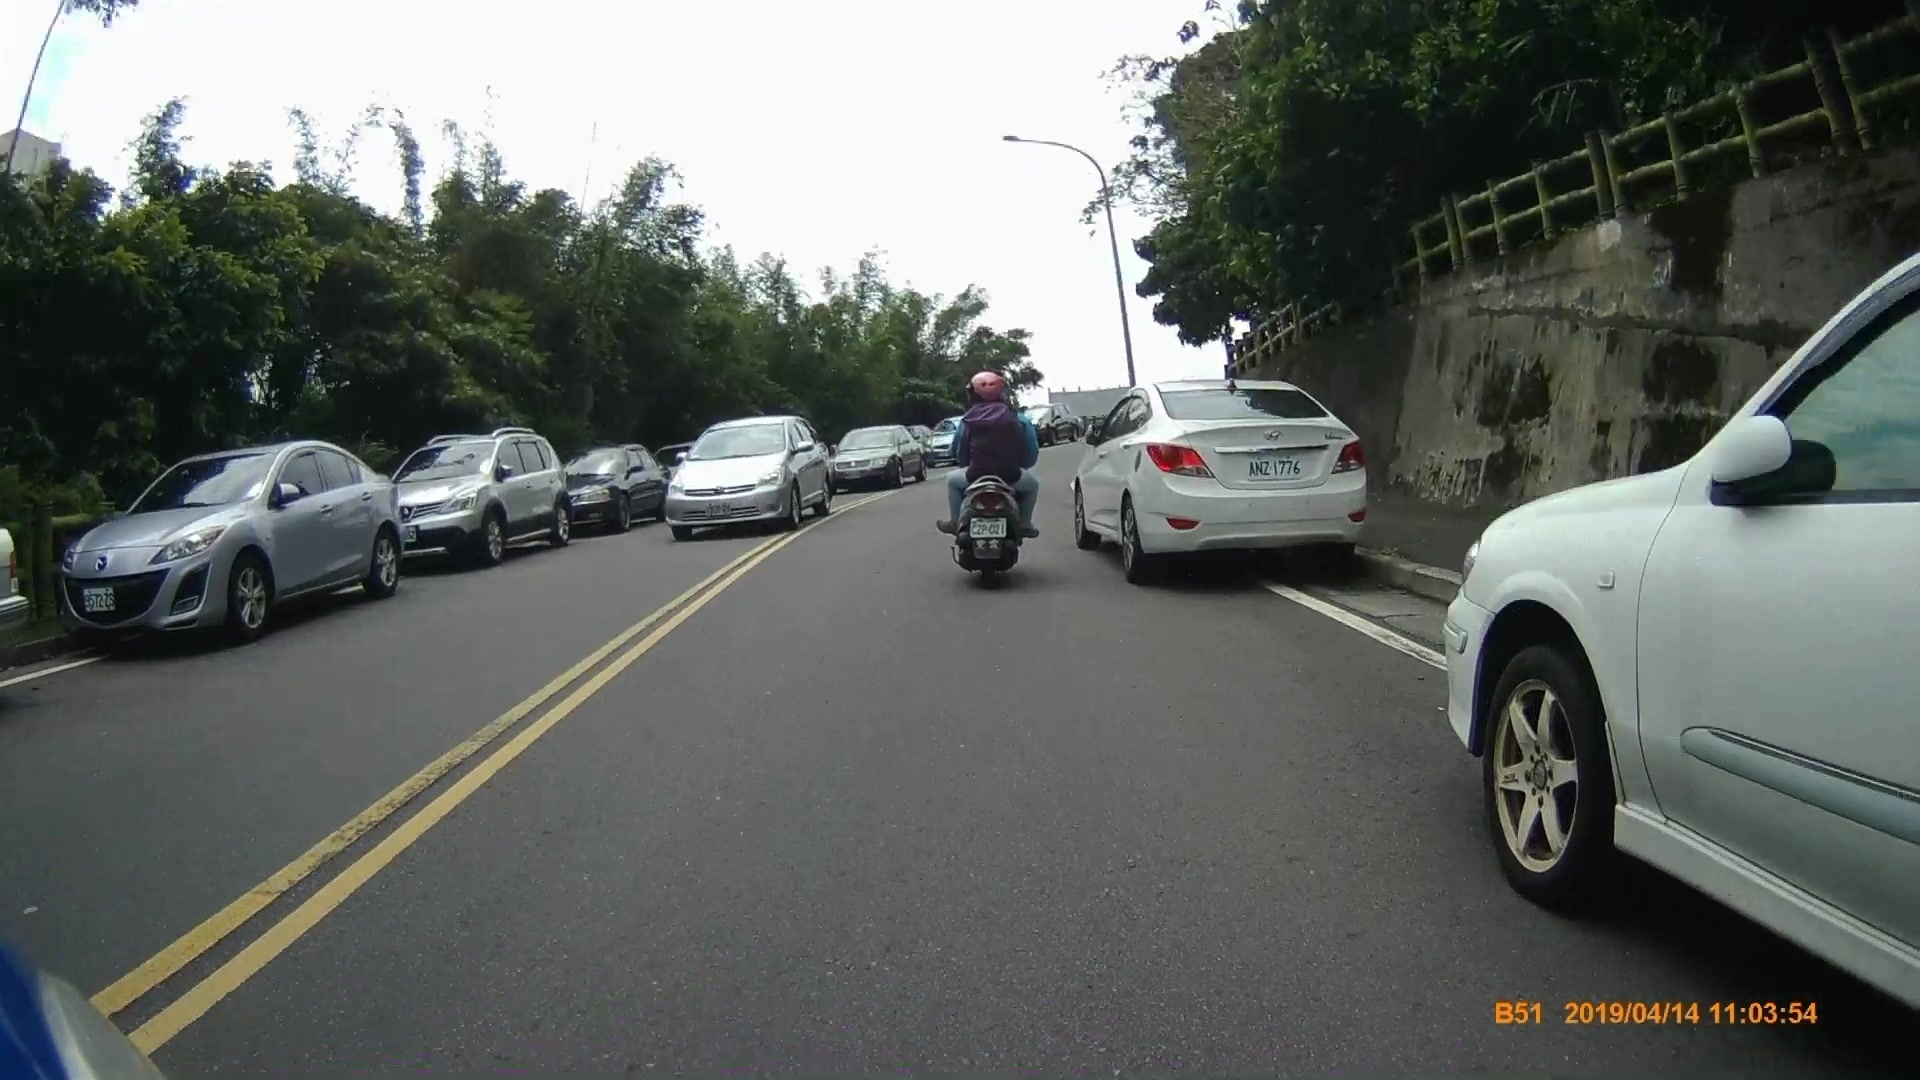License_plate: (1235, 453, 1310, 489), (967, 517, 1012, 540)
